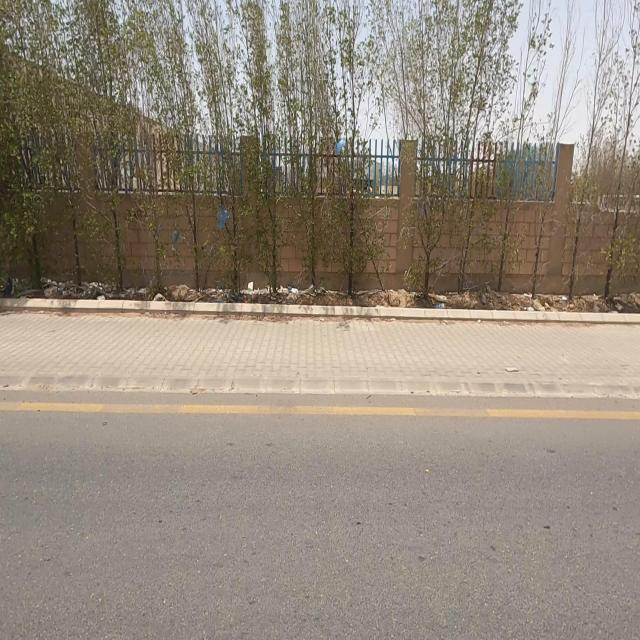debris: (188, 176, 252, 258), (150, 196, 212, 272), (268, 254, 330, 324), (223, 254, 281, 310)
